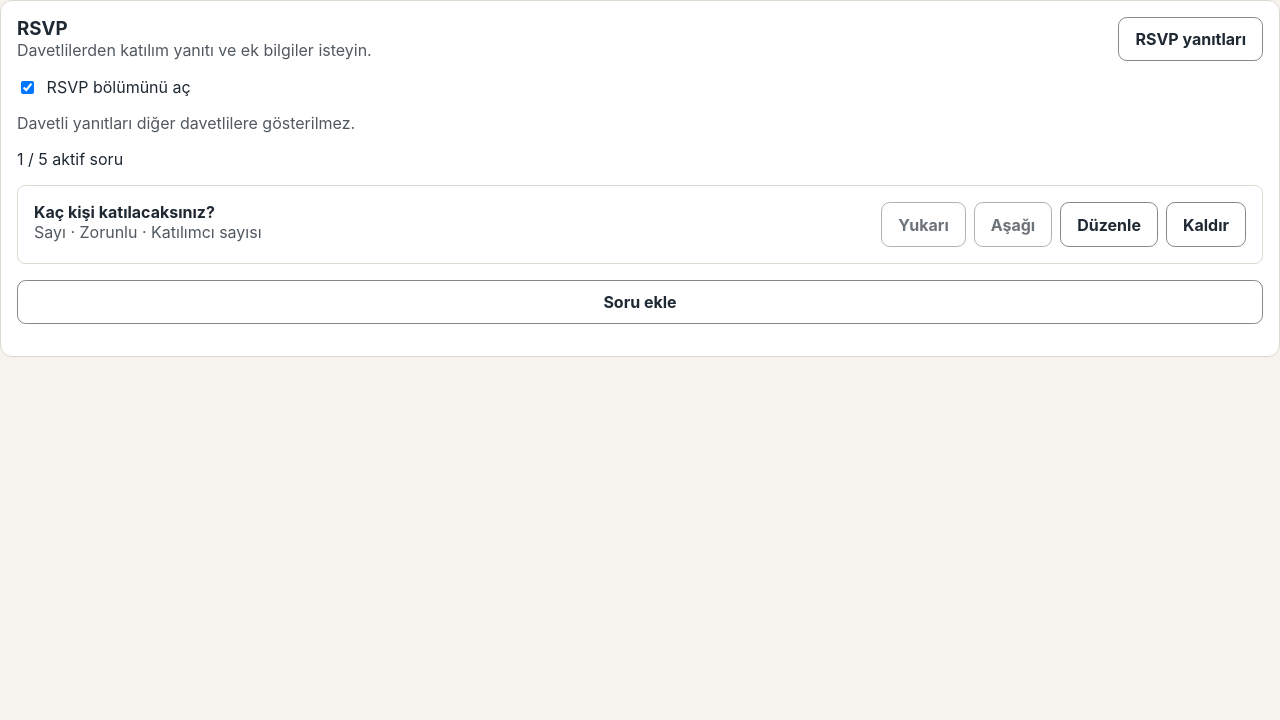
Test case: RsvpManagementPanel › explains that the participant-count answer is an integer from 0 through 20
The width and height of the screenshot is (1280, 720).
Step 1. Click the button with aria-label "Kaç kişi katılacaksınız? sorusunu düzenle" → point(1109, 225), box x1=1060 y1=202 x2=1158 y2=247
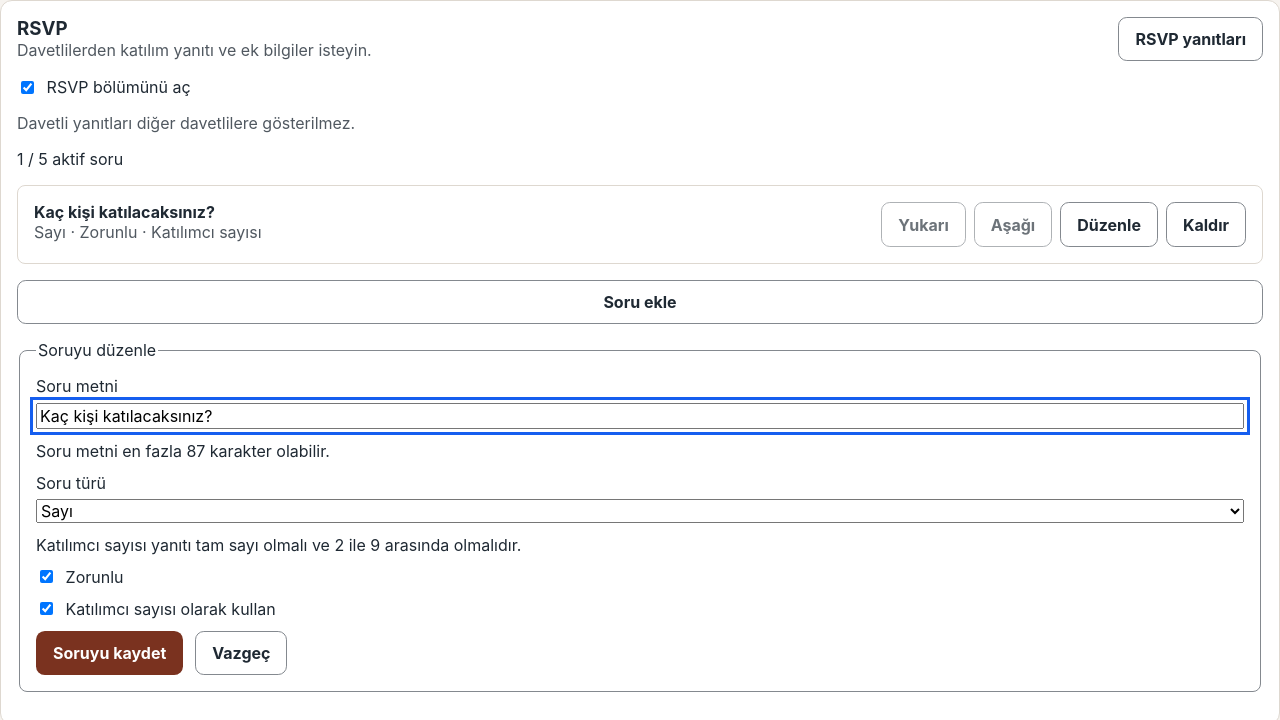
Check: the text "Katılımcı sayısı yanıtı tam sayı olmalı ve 2 ile 9 arasında olmalıdır." is shown, box x1=36 y1=535 x2=521 y2=555
